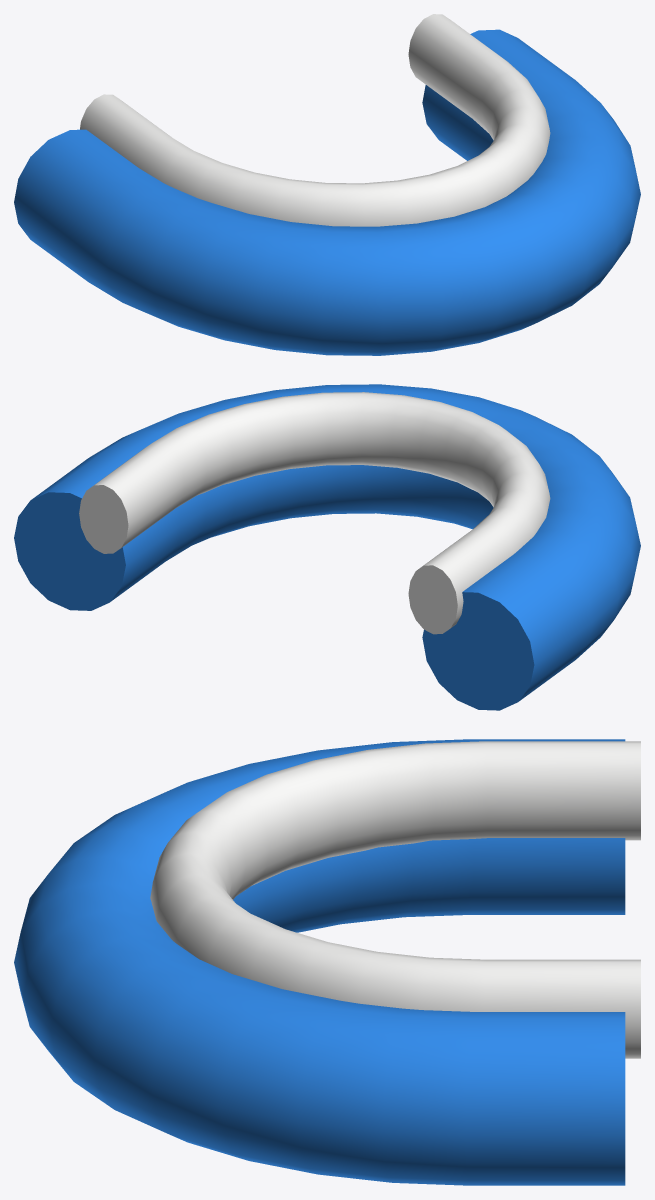
File: mouth.glb
The picture shows the model from 3 angles, top to bottom: view 1: azimuth 30°, elevation 25°; view 2: azimuth 150°, elevation 25°; view 3: azimuth 270°, elevation 25°; orthographic projection. The views are drawn at different scales.
Visible parts, largest first — view 1: mouth; view 2: mouth; view 3: mouth.
Boxes of the visible parts, x1=… form: mouth: x1=14, y1=14, x2=640, y2=355; mouth: x1=14, y1=384, x2=640, y2=710; mouth: x1=14, y1=739, x2=640, y2=1185.
Size of the model in its own units: 1.6 by 0.4084 by 1.23.
